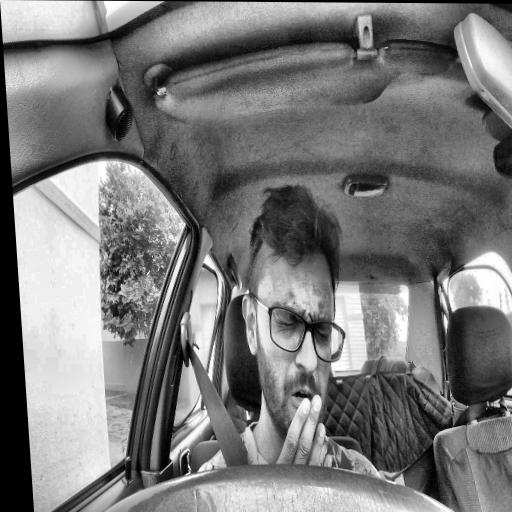drowsy: (233, 184, 353, 451)
